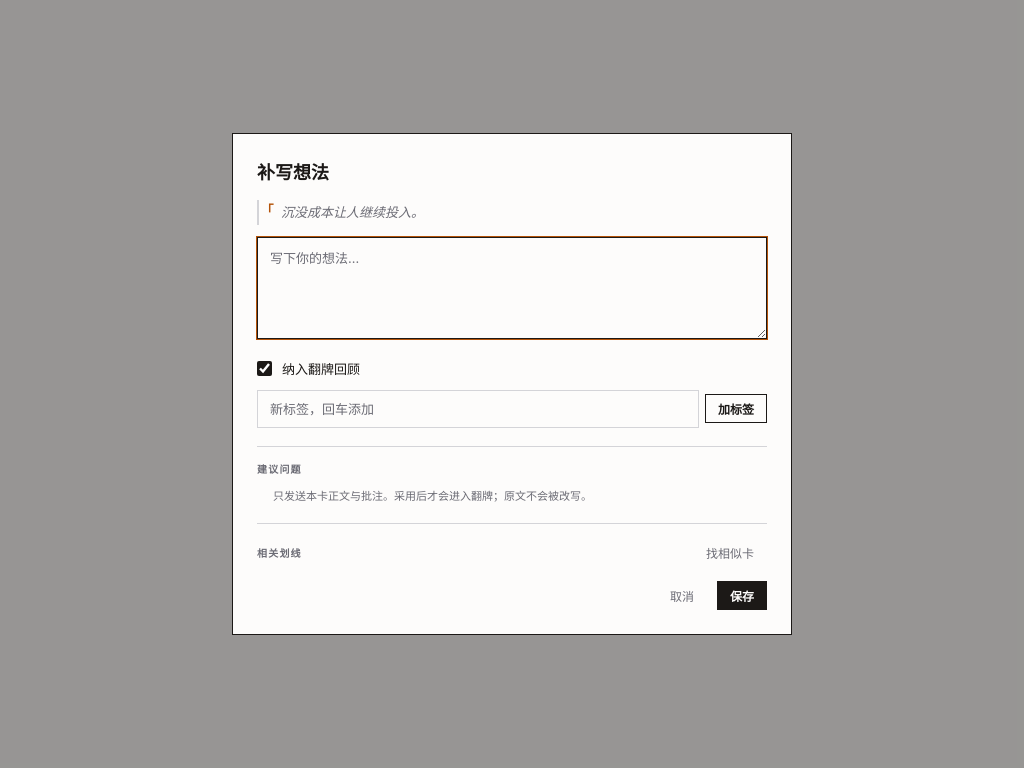
Test: EditModal 相似卡 › 找相似卡列出相关线索
Step 1. Click the button "找相似卡" → [730, 553], box x1=693 y1=538 x2=767 y2=567
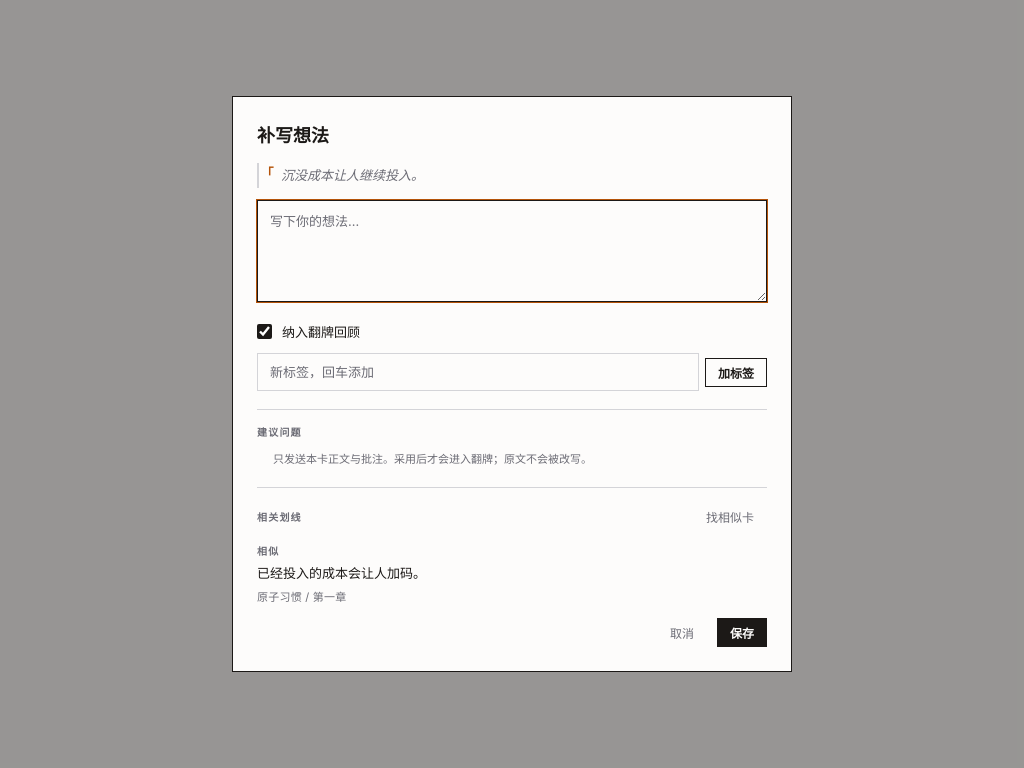
Expected: the text "已经投入的成本会让人加码。" is shown, x1=257 y1=565 x2=426 y2=581
